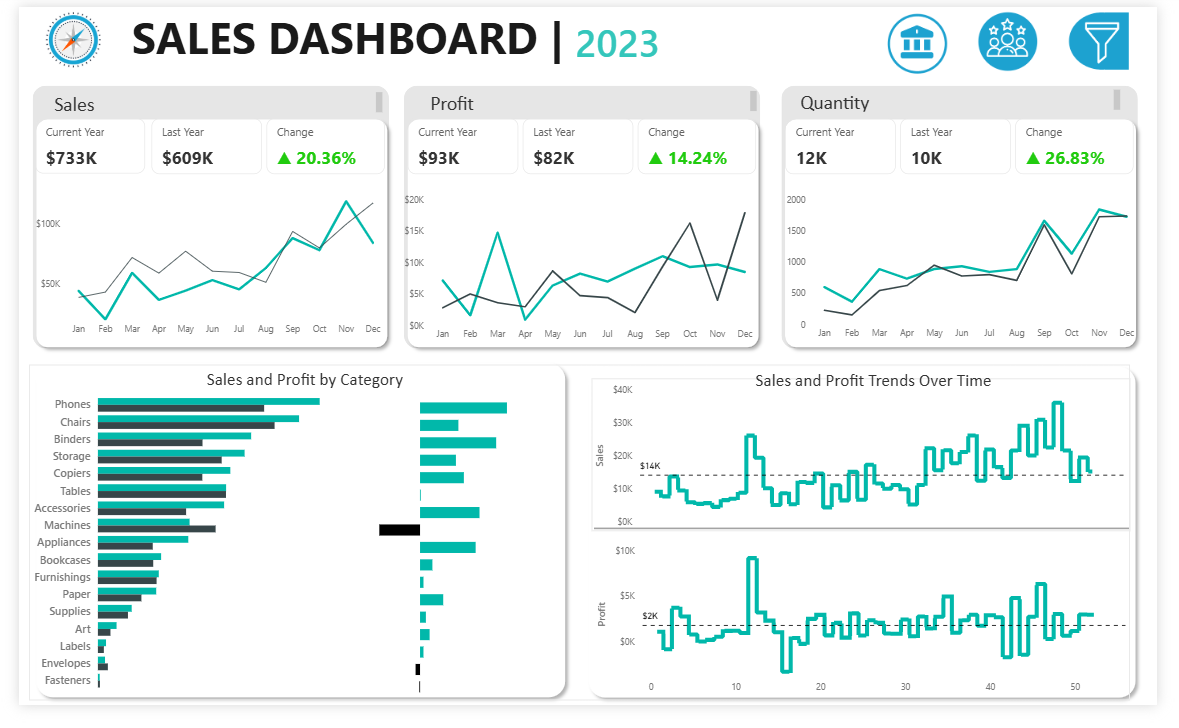

Layout of this report page (visuals, bound fields, positions):
{"tool":"powerbi","page":{"name":"Sales Dashboard","canvas":[1400,860],"ordinal":5},"visuals":[{"type":"image","box":[0,0,133.9,80.7],"z":0,"group":"g10"},{"type":"group","id":"g1","title":"Name background","box":[16.9,96.9,1360,323.1],"z":0},{"type":"shape","box":[16.9,96.9,438.5,323.1],"z":0,"group":"g1"},{"type":"shape","box":[11.7,130,450,298.6],"z":0,"group":"g4"},{"type":"group","id":"g2","title":"Viz-1","box":[16.1,137.3,438.6,276.4],"z":0,"group":"g9"},{"type":"lineChart","fields":{"Y":["Customers.Total Sales"],"Category":["Date table.Month"],"Y2":["Customers.PY SALES"]},"box":[16.1,223.7,438.6,190],"z":0,"group":"g2"},{"type":"lineChart","fields":{"Y":["Customers.Total Quantity"],"Category":["Date table.Month"],"Y2":["Customers.PY Quantity"]},"box":[941,223.7,442,195.7],"z":0,"group":"g7"},{"type":"lineChart","fields":{"Y":["Customers.Total Profit"],"Category":["Date table.Month"],"Y2":["Customers.PY Profit"]},"box":[469.7,224.2,442.9,197.1],"z":0,"group":"g5"},{"type":"group","id":"g3","title":"Viz-4","box":[11.7,439.6,648.1,411.6],"z":0,"group":"g8"},{"type":"lineChart","fields":{"Category":["Date table.Week"],"Y":["Customers.Total Sales"]},"box":[704.4,457,662.7,189.9],"z":0,"group":"g6"},{"type":"clusteredBarChart","title":"Sales and Profit by Category","fields":{"Category":["Products.Sub-Category"],"Y":["Customers.Total Sales","Customers.PY SALES"]},"box":[11.7,459.8,400.9,391.4],"z":0,"group":"g3"},{"type":"textbox","box":[680.6,10.2,137.3,70.1],"z":1000,"group":"g10"},{"type":"shape","box":[473.8,96.9,438.5,323.1],"z":1000,"group":"g1"},{"type":"group","id":"g4","title":"Background","box":[11.7,130,1371.5,730.3],"z":1000},{"type":"shape","box":[468.9,130,450,298.6],"z":1000,"group":"g4"},{"type":"cardVisual","fields":{"Data":["Customers.Total Sales"]},"box":[20.8,137.3,135.3,68.3],"z":1000,"group":"g2"},{"type":"cardVisual","fields":{"Data":["Customers.Total Quantity"]},"box":[943.9,137.3,135.7,68.6],"z":1000,"group":"g7"},{"type":"group","id":"g5","title":"Viz-2","box":[469.7,137.8,442.9,283.6],"z":1000,"group":"g9"},{"type":"cardVisual","fields":{"Data":["Customers.Total Profit"]},"box":[478.3,137.8,135.7,68.6],"z":1000,"group":"g5"},{"type":"textbox","box":[225.7,439.6,289,35.7],"z":1000,"group":"g3"},{"type":"group","id":"g6","title":"Viz-5","box":[704.4,441.6,662.7,412.8],"z":1000,"group":"g8"},{"type":"textbox","box":[900.6,441.6,334.3,35.7],"z":1000,"group":"g6"},{"type":"textbox","title":"SALES DASHBOARD |","box":[133.9,0,558.5,80.7],"z":2000,"group":"g10"},{"type":"shape","box":[938.4,96.9,438.5,323.1],"z":2000,"group":"g1"},{"type":"shape","box":[933.1,130,450,298.6],"z":2000,"group":"g4"},{"type":"group","id":"g7","title":"Viz-3","box":[941,137.3,442,282.1],"z":2000,"group":"g9"},{"type":"cardVisual","fields":{"Data":["Customers.PY Quantity"]},"box":[1085.3,137.3,135.7,68.6],"z":2000,"group":"g7"},{"type":"cardVisual","fields":{"Data":["Customers.PY Profit"]},"box":[619.7,137.8,135.7,68.6],"z":2000,"group":"g5"},{"type":"cardVisual","fields":{"Data":["Customers.PY SALES"]},"box":[163.2,138,135.7,68.6],"z":2000,"group":"g2"},{"type":"clusteredBarChart","fields":{"Category":["Products.Sub-Category"],"Y":["Customers.Profit Range"]},"box":[406.5,474,253.3,375.3],"z":2000,"group":"g3"},{"type":"shape","box":[707.4,635,659,12.7],"z":2000,"group":"g6"},{"type":"image","box":[1050,3,111.1,85],"z":3000,"group":"g10"},{"type":"cardVisual","fields":{"Data":["Customers.YoY Quantity Growth"]},"box":[1226.7,137.3,145.7,68.6],"z":3000,"group":"g7"},{"type":"cardVisual","fields":{"Data":["Customers.YoY Profit Growth"]},"box":[762.6,137.8,145.7,68.6],"z":3000,"group":"g5"},{"type":"cardVisual","fields":{"Data":["Customers.YoY Growth Text"]},"box":[304.7,138,145.7,68.6],"z":3000,"group":"g2"},{"type":"shape","box":[11.7,430.5,669,429.4],"z":3000,"group":"g4"},{"type":"group","id":"g8","title":"Bottom vizs","box":[11.7,439.6,1355.4,414.8],"z":3000},{"type":"lineChart","fields":{"Category":["Date table.Week"],"Y":["Customers.Total Profit"]},"box":[707.4,655.6,659.3,198.8],"z":3000,"group":"g6"},{"type":"image","box":[1161.1,0,111.1,85],"z":4000,"group":"g10"},{"type":"group","id":"g9","title":"Top vizs","box":[16.1,137.3,1367.1,283.4],"z":4000},{"type":"shape","box":[692.2,434.9,690.9,425],"z":4000,"group":"g4"},{"type":"image","box":[1272.2,0,111.1,85],"z":5000,"group":"g10"},{"type":"textbox","box":[38.5,100,413.8,36.9],"z":5000},{"type":"textbox","box":[501.6,98.4,411.3,37.1],"z":6000},{"type":"textbox","box":[956.9,96.9,403.1,36.9],"z":7000},{"type":"group","id":"g10","title":"Title Bar","box":[0,0,1383.3,88],"z":8000}]}

Visuals, with their boxes in screenshot pixels (x1, y1, x2, y2), scaled from the page's 1400x860 canvas onto the 1179x728 screenshot:
image: Rect(0, 0, 113, 68)
"Name background" group: Rect(14, 82, 1160, 356)
shape: Rect(14, 82, 384, 356)
shape: Rect(10, 110, 389, 363)
"Viz-1" group: Rect(14, 116, 383, 350)
lineChart - Customers.Total Sales x Date table.Month: Rect(14, 189, 383, 350)
lineChart - Customers.Total Quantity x Date table.Month: Rect(792, 189, 1165, 355)
lineChart - Customers.Total Profit x Date table.Month: Rect(396, 190, 769, 357)
"Viz-4" group: Rect(10, 372, 556, 721)
lineChart - Date table.Week x Customers.Total Sales: Rect(593, 387, 1151, 548)
"Sales and Profit by Category" clusteredBarChart: Rect(10, 389, 347, 721)
textbox: Rect(573, 9, 689, 68)
shape: Rect(399, 82, 768, 356)
"Background" group: Rect(10, 110, 1165, 727)
shape: Rect(395, 110, 774, 363)
cardVisual - Customers.Total Sales: Rect(18, 116, 131, 174)
cardVisual - Customers.Total Quantity: Rect(795, 116, 909, 174)
"Viz-2" group: Rect(396, 117, 769, 357)
cardVisual - Customers.Total Profit: Rect(403, 117, 517, 175)
textbox: Rect(190, 372, 433, 402)
"Viz-5" group: Rect(593, 374, 1151, 723)
textbox: Rect(758, 374, 1040, 404)
"SALES DASHBOARD |" textbox: Rect(113, 0, 583, 68)
shape: Rect(790, 82, 1160, 356)
shape: Rect(786, 110, 1165, 363)
"Viz-3" group: Rect(792, 116, 1165, 355)
cardVisual - Customers.PY Quantity: Rect(914, 116, 1028, 174)
cardVisual - Customers.PY Profit: Rect(522, 117, 636, 175)
cardVisual - Customers.PY SALES: Rect(137, 117, 252, 175)
clusteredBarChart - Products.Sub-Category x Customers.Profit Range: Rect(342, 401, 556, 719)
shape: Rect(596, 538, 1151, 548)
image: Rect(884, 3, 978, 74)
cardVisual - Customers.YoY Quantity Growth: Rect(1033, 116, 1156, 174)
cardVisual - Customers.YoY Profit Growth: Rect(642, 117, 765, 175)
cardVisual - Customers.YoY Growth Text: Rect(257, 117, 379, 175)
shape: Rect(10, 364, 573, 727)
"Bottom vizs" group: Rect(10, 372, 1151, 723)
lineChart - Date table.Week x Customers.Total Profit: Rect(596, 555, 1151, 723)
image: Rect(978, 0, 1071, 72)
"Top vizs" group: Rect(14, 116, 1165, 356)
shape: Rect(583, 368, 1165, 727)
image: Rect(1071, 0, 1165, 72)
textbox: Rect(32, 85, 381, 116)
textbox: Rect(422, 83, 769, 115)
textbox: Rect(806, 82, 1145, 113)
"Title Bar" group: Rect(0, 0, 1165, 74)
